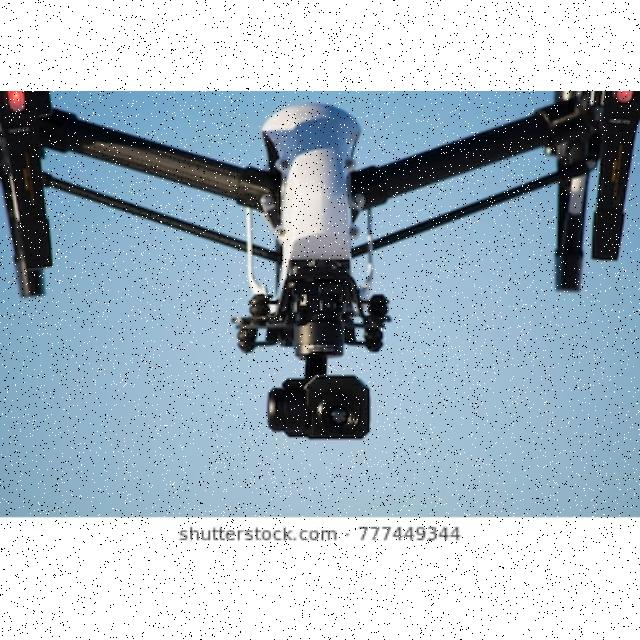Drones: (5, 93, 629, 359)
